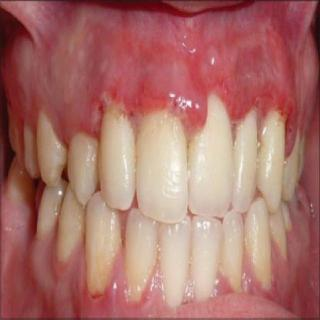Gum Swelling: (63, 66, 299, 157), (70, 255, 164, 315)
maligned: (243, 197, 281, 291), (64, 130, 104, 204), (234, 108, 258, 212)
plaque: (95, 87, 139, 136), (139, 106, 181, 148), (250, 261, 278, 293), (218, 265, 246, 297)
